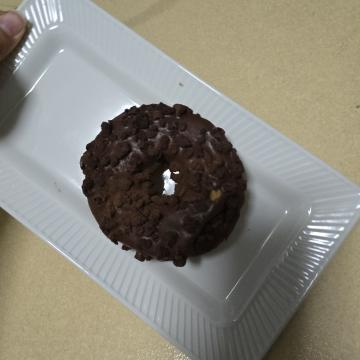doughnut: (79, 104, 279, 284)
